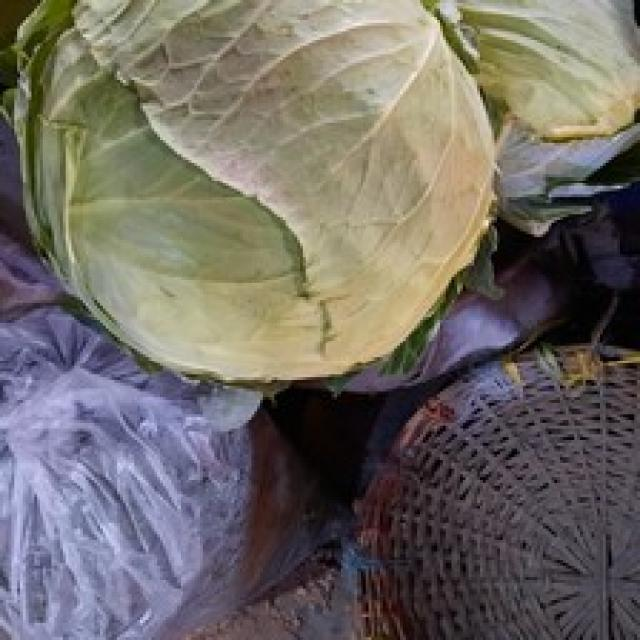Cabbage: (0, 0, 499, 386)
